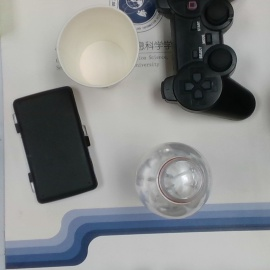bottle: (133, 141, 210, 219)
cup: (57, 6, 141, 88)
remote: (157, 1, 257, 118)
